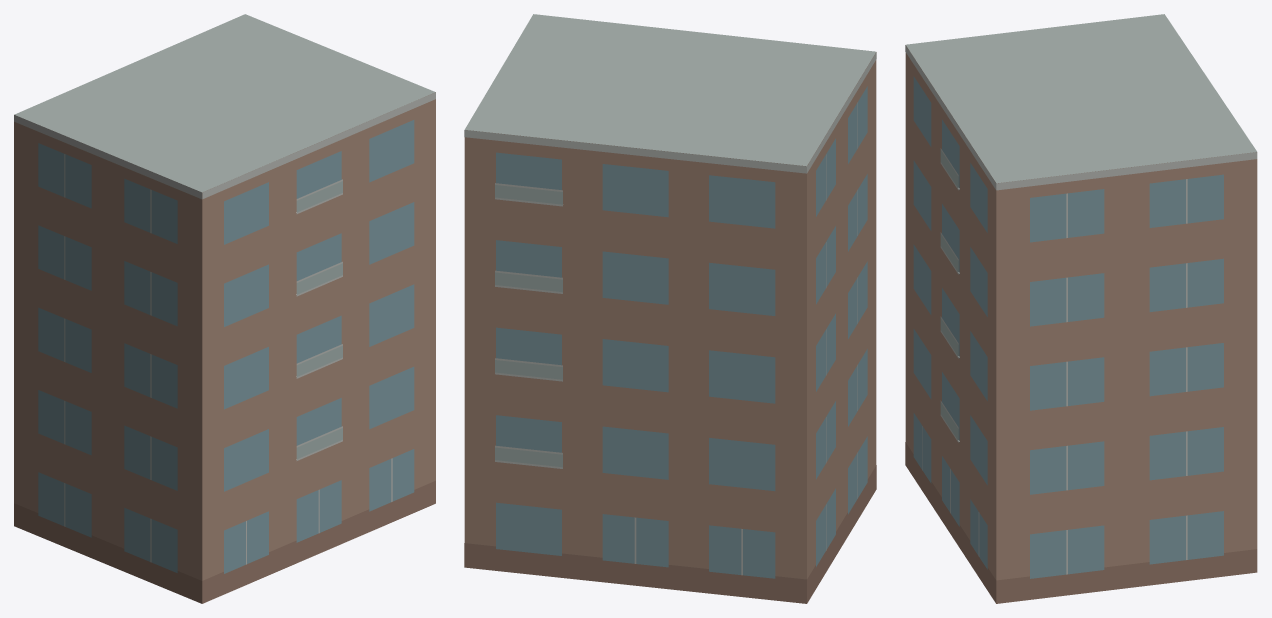
File: survey-upis-32649469.glb
The picture shows the model from 3 angles, left to right: view 1: azimuth 30°, elevation 25°; view 2: azimuth 150°, elevation 25°; view 3: azimuth 270°, elevation 25°; orthographic projection. The views are drawn at different scales.
Parts seen in each view (by area): view 1: survey-upis-32649469.tmp; view 2: survey-upis-32649469.tmp; view 3: survey-upis-32649469.tmp.
Boxes of the visible parts, x1,y1,x2,y2 form: survey-upis-32649469.tmp: (14, 14, 435, 603); survey-upis-32649469.tmp: (464, 14, 876, 603); survey-upis-32649469.tmp: (905, 14, 1257, 603).
Size of the model in its own units: 12.44 by 14.4 by 10.93.
